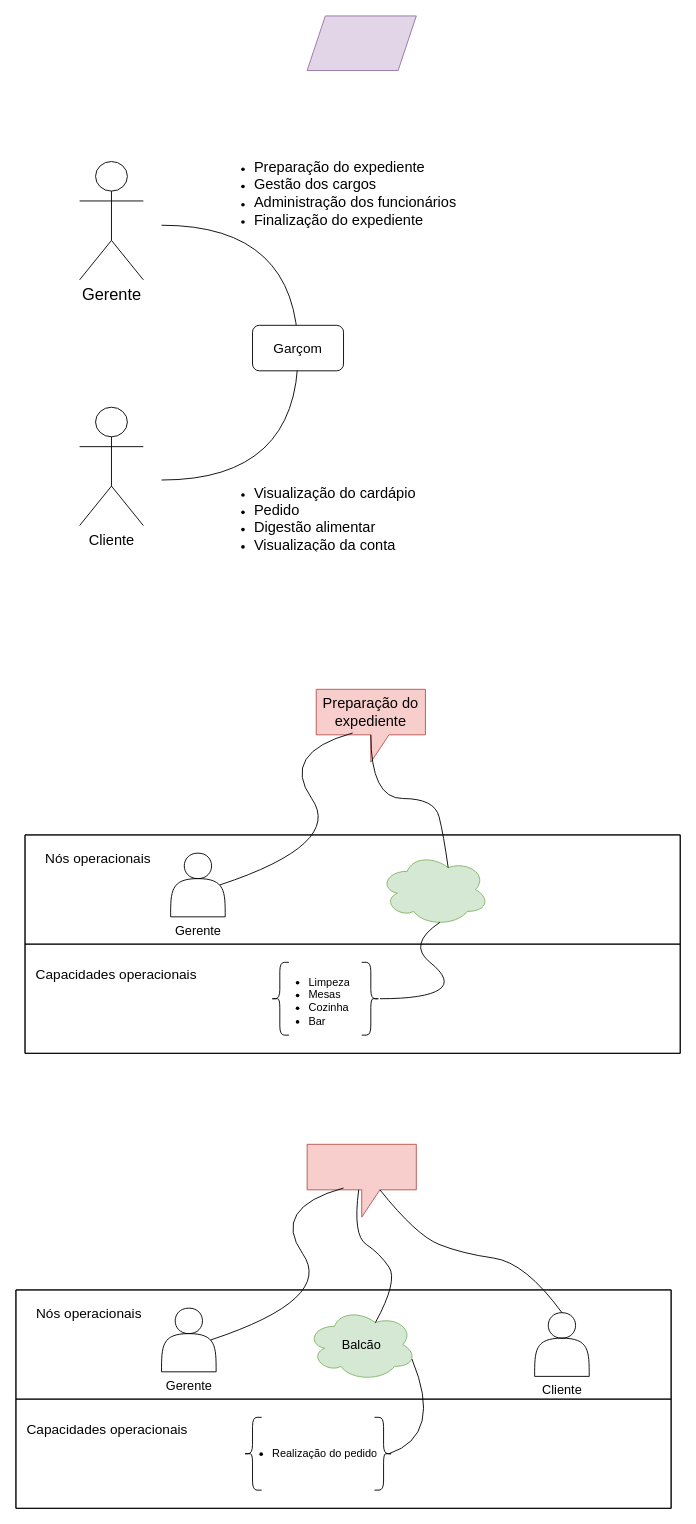
Some shapes in this 696 by 1524 pixel diagram are drawn without their labels. Each missing label, with the centre of its shape:
Contexto de serviço: (361,43)
Organização: (434,889)
Pedido: (361,1180)
